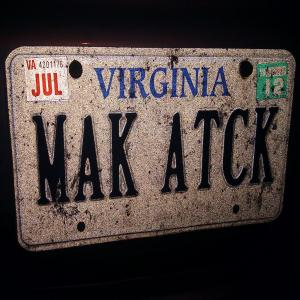Vehicle-registration-plate: (5, 45, 297, 253)
